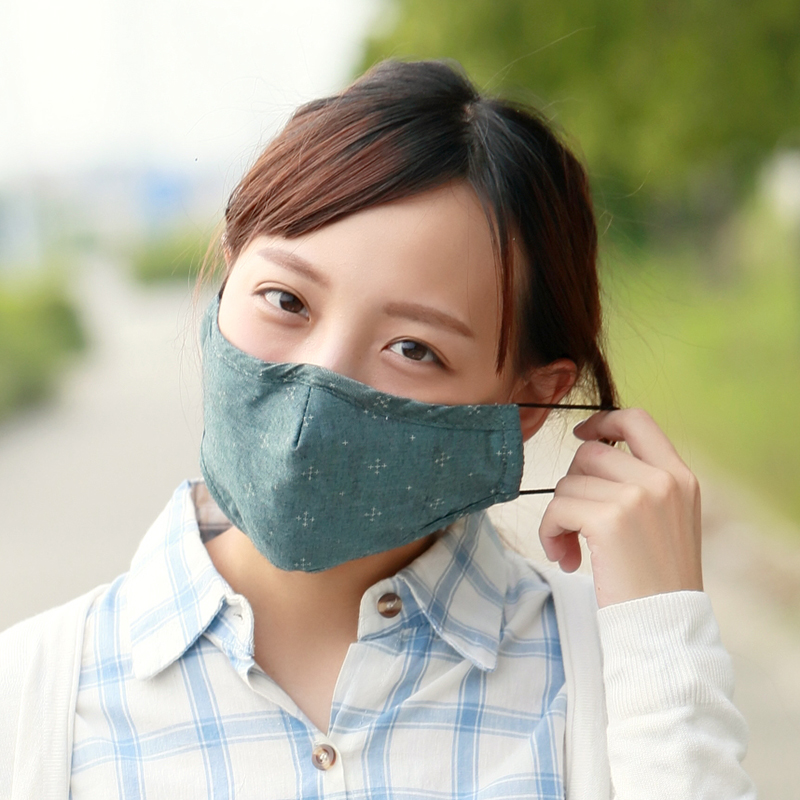face_mask: (210, 184, 508, 555)
